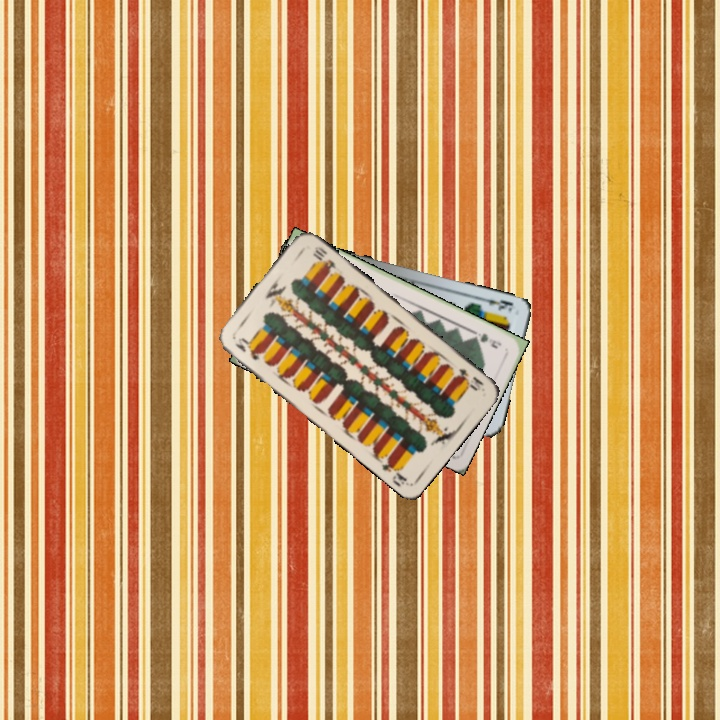E10: (453, 364, 487, 393), (231, 334, 263, 363)
EK: (478, 293, 518, 315)
G9: (469, 327, 504, 351)
